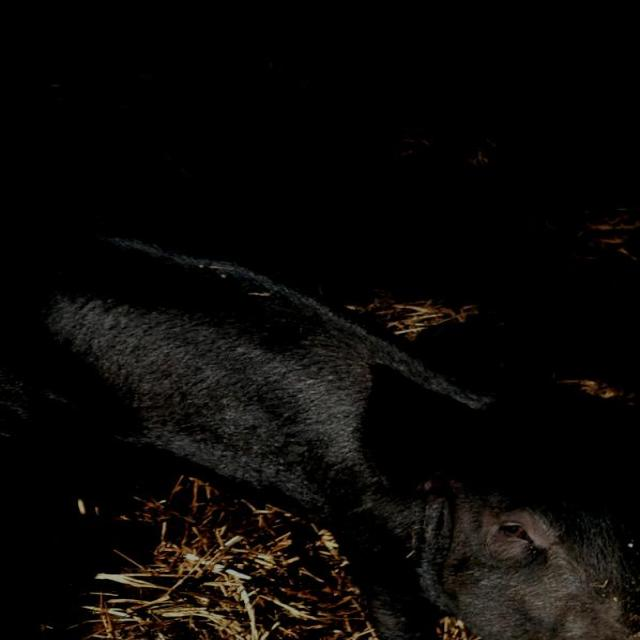pig: (3, 239, 632, 640)
